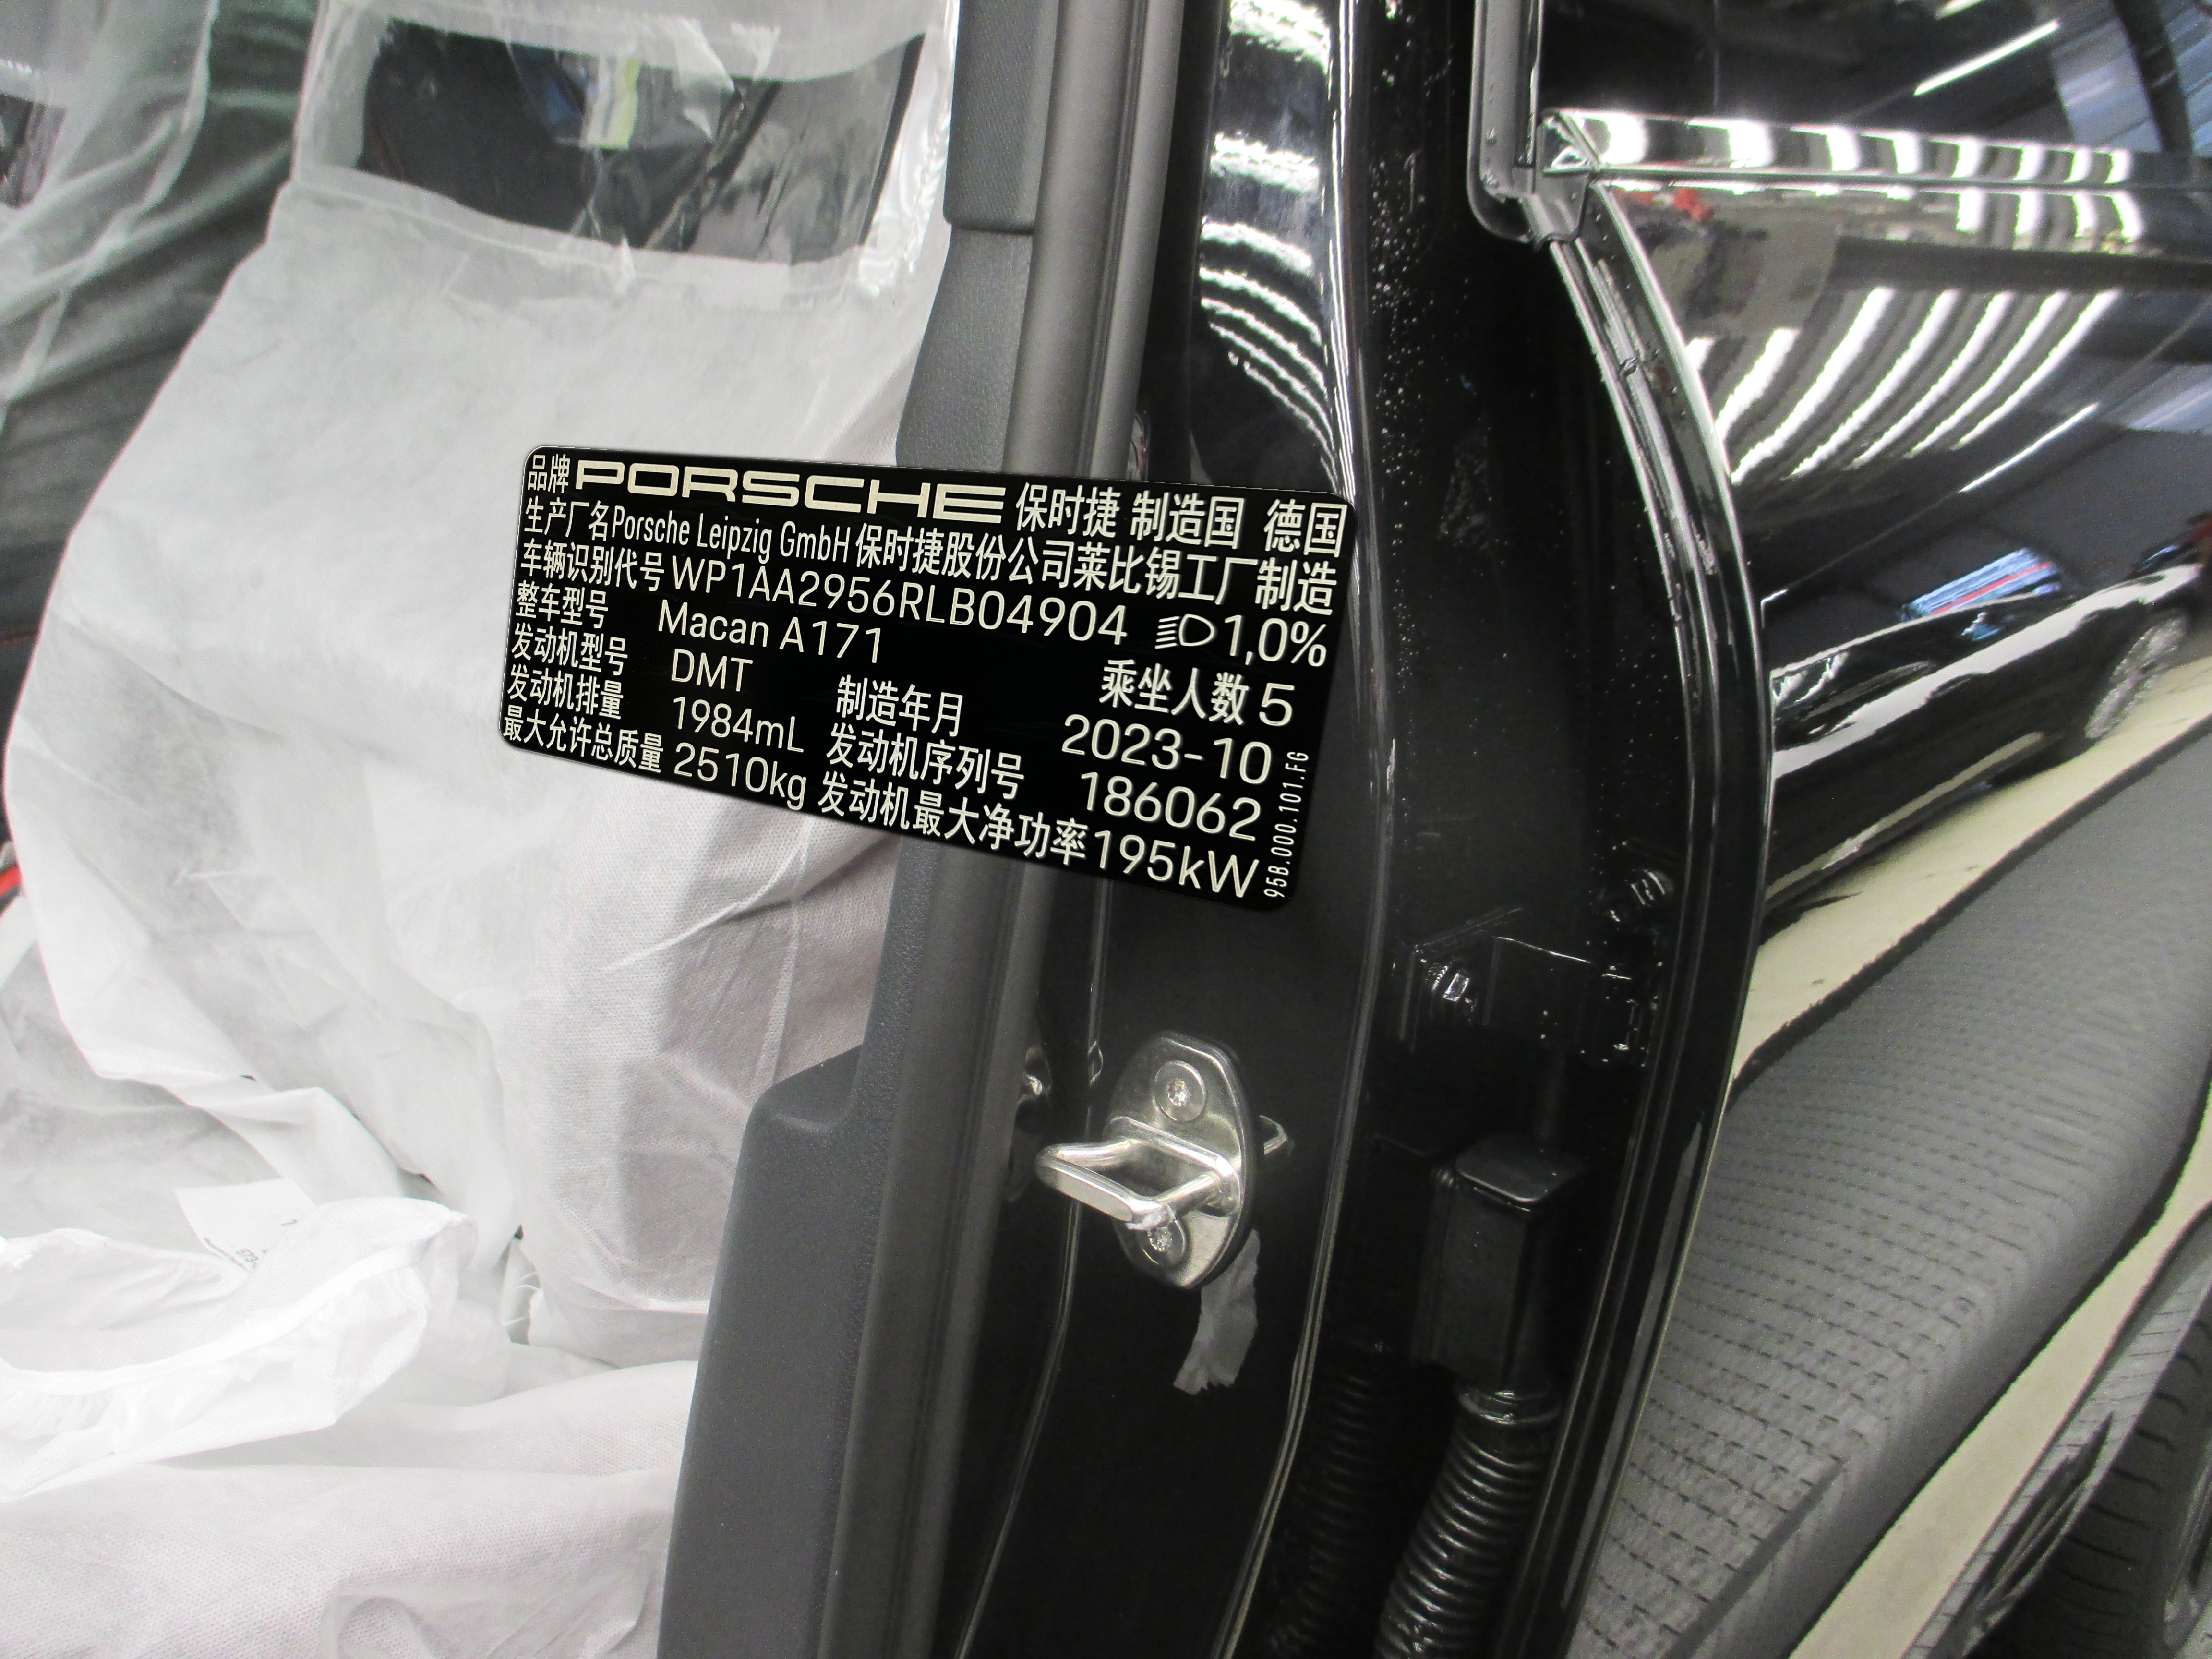Typlabel-China: (500, 446, 1359, 911)
